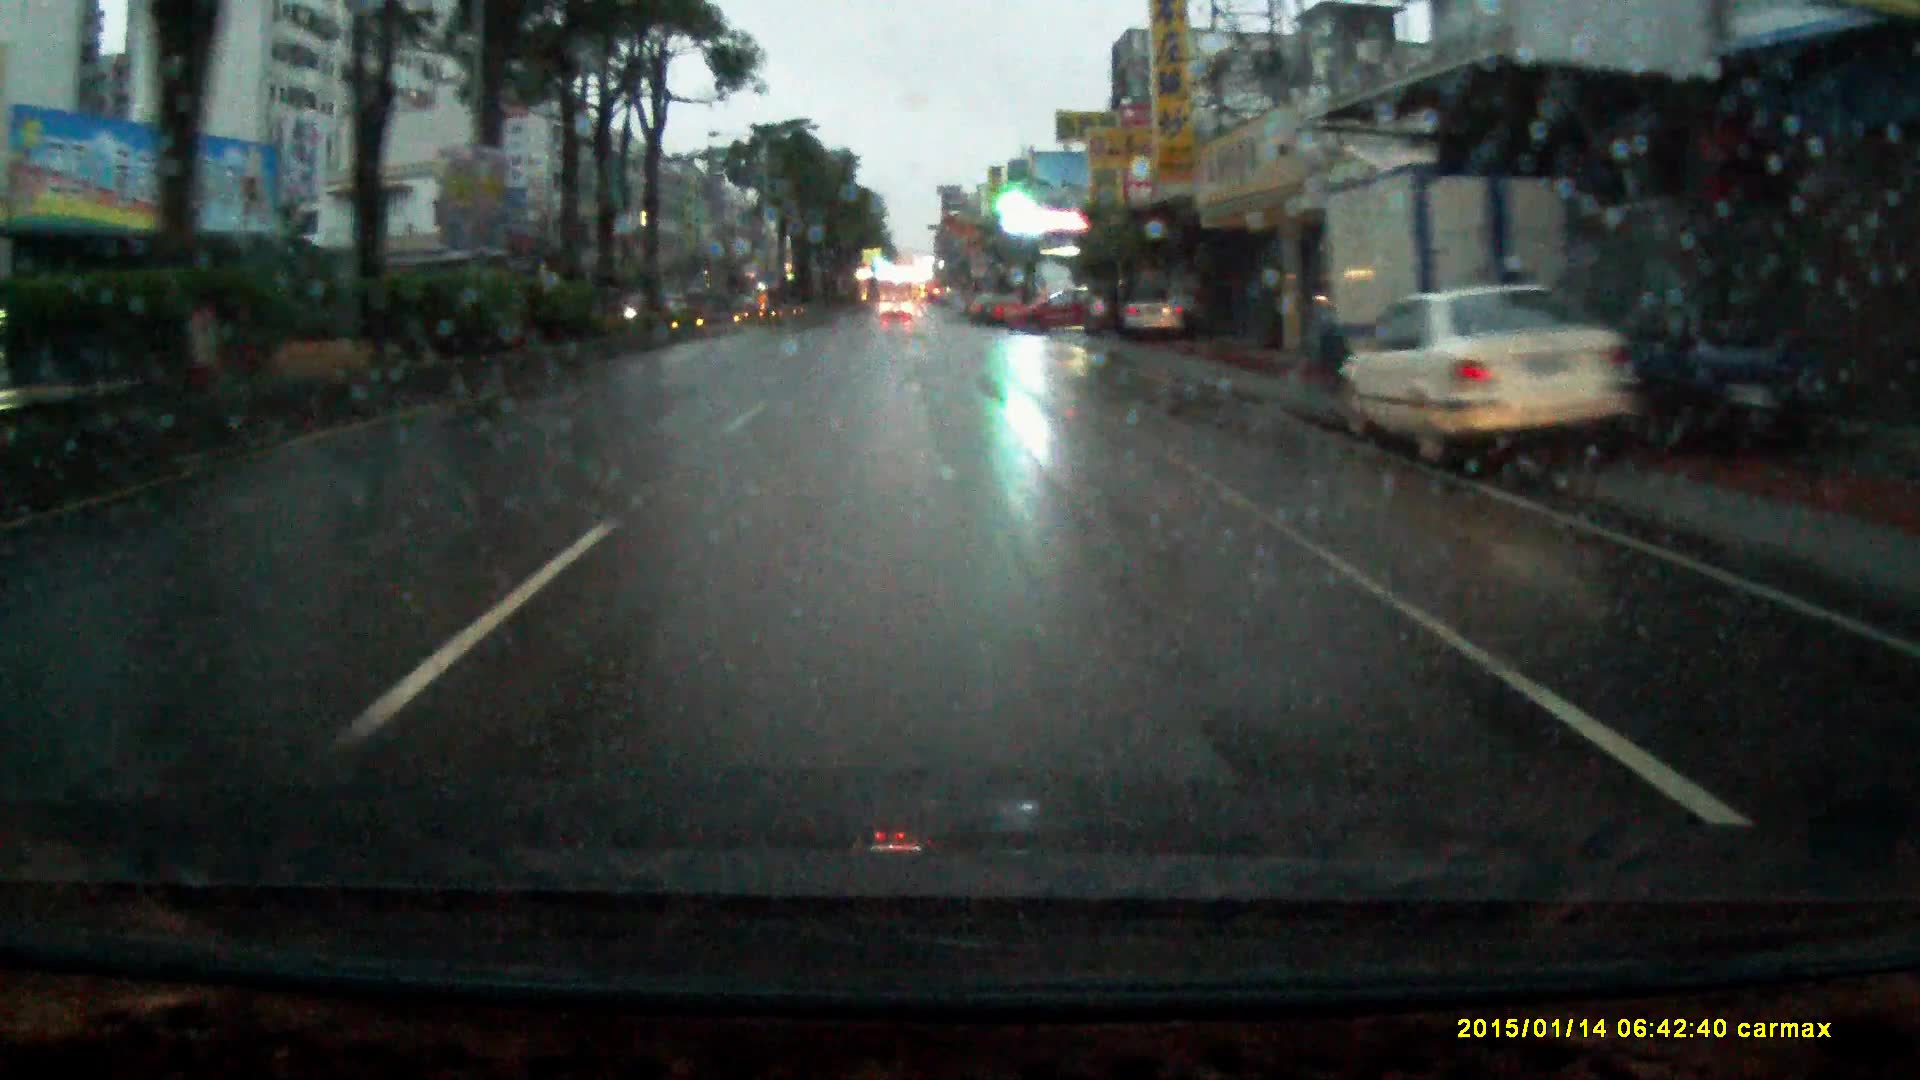vehicle: (1302, 138, 1625, 406), (1590, 208, 1849, 448), (1332, 287, 1660, 473), (1006, 290, 1104, 340), (1110, 291, 1187, 343), (881, 299, 913, 327)
